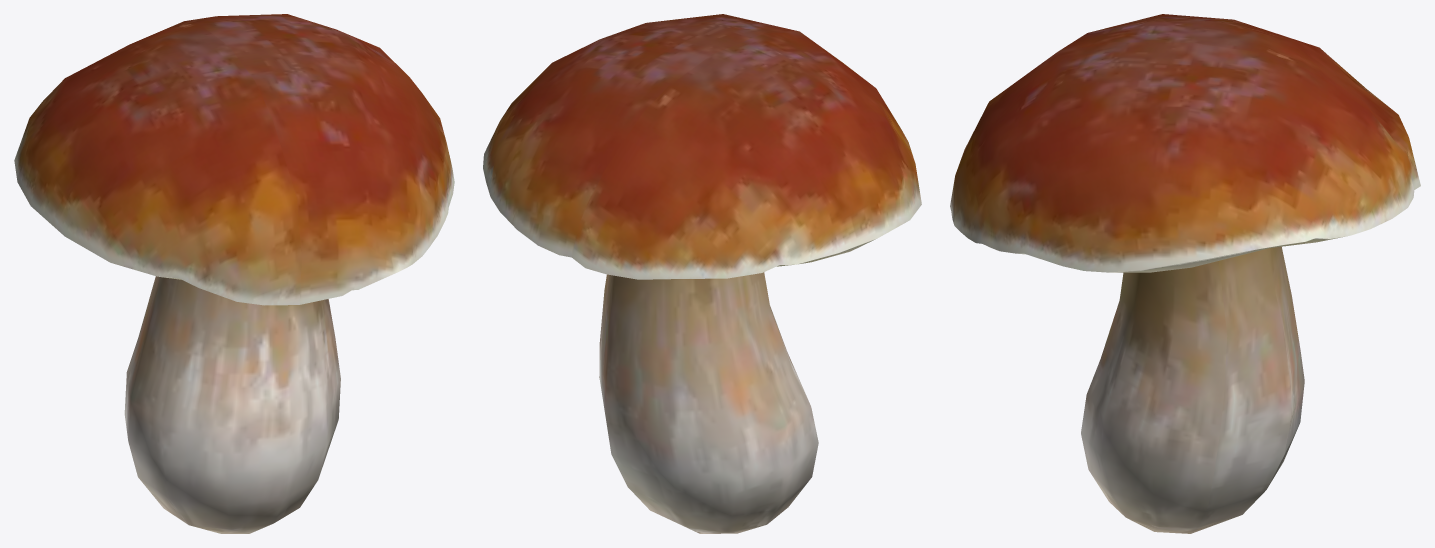
3 views of the same model, side by side, from view 1: azimuth 30°, elevation 25°; view 2: azimuth 150°, elevation 25°; view 3: azimuth 270°, elevation 25° (orthographic).
Parts seen in each view (by area): view 1: SM_Bittercap_Mushroom_LOD0; view 2: SM_Bittercap_Mushroom_LOD0; view 3: SM_Bittercap_Mushroom_LOD0.
Part boxes in pixels (x1=…): SM_Bittercap_Mushroom_LOD0: x1=14, y1=14, x2=454, y2=533; SM_Bittercap_Mushroom_LOD0: x1=483, y1=14, x2=921, y2=533; SM_Bittercap_Mushroom_LOD0: x1=950, y1=14, x2=1420, y2=533.
Size of the model in its own units: 0.2149 by 0.2583 by 0.2284.
1 material, 1 textured.
